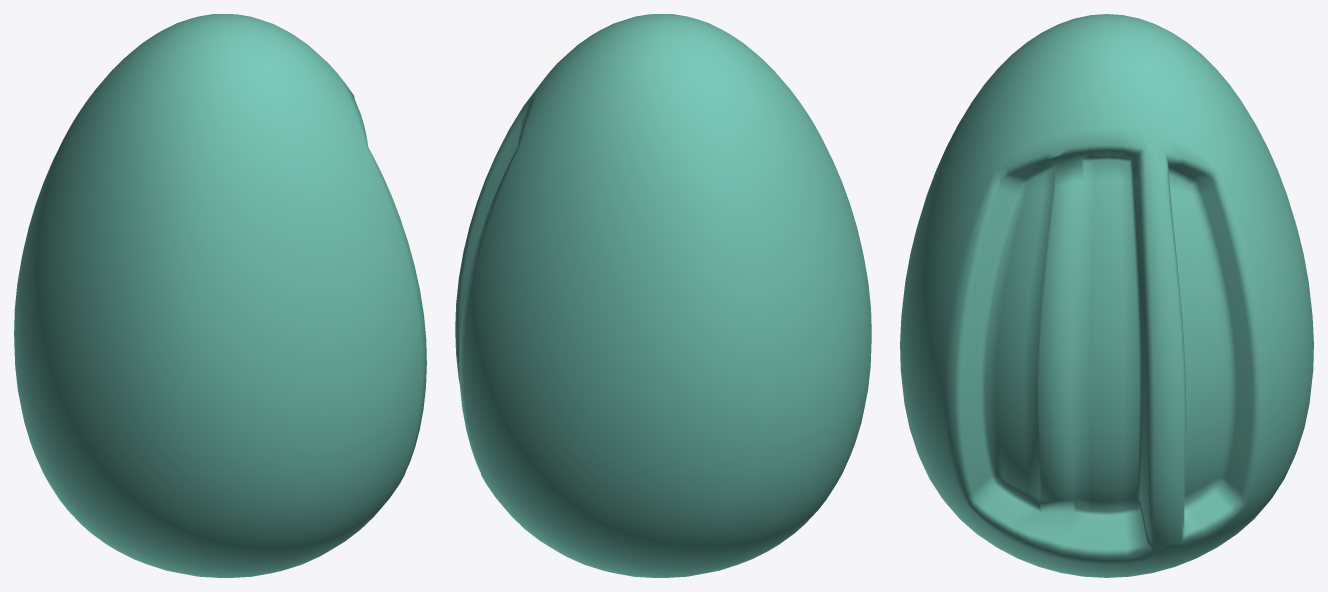
Rendered from Deep Egg 4.fbx.
3 views of the same model, side by side, from view 1: azimuth 30°, elevation 25°; view 2: azimuth 150°, elevation 25°; view 3: azimuth 270°, elevation 25° (orthographic).
Parts seen in each view (by area): view 1: Slime Egg.005; view 2: Slime Egg.005; view 3: Slime Egg.005.
Boxes of the visible parts, x1,y1,x2,y2 form: Slime Egg.005: [14, 14, 426, 577]; Slime Egg.005: [455, 14, 871, 577]; Slime Egg.005: [900, 14, 1313, 577].
Size of the model in its own units: 2.53 by 3.62 by 2.56.
